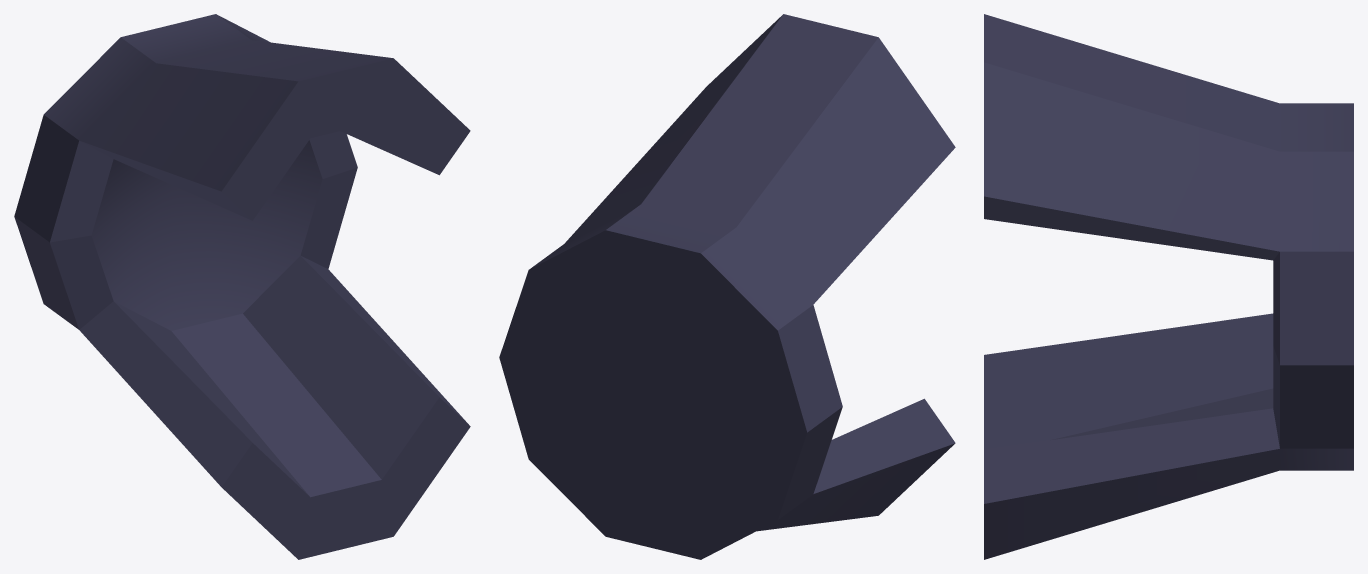
File: gBBarrel_01.fbx
The picture shows the model from 3 angles, left to right: view 1: azimuth 30°, elevation 25°; view 2: azimuth 150°, elevation 25°; view 3: azimuth 270°, elevation 25°; orthographic projection. The views are drawn at different scales.
Visible parts, largest first — view 1: gBBarrel_01; view 2: gBBarrel_01; view 3: gBBarrel_01.
Part boxes in pixels (<box>): gBBarrel_01: <box>14,14,470,559</box>; gBBarrel_01: <box>499,14,955,559</box>; gBBarrel_01: <box>984,14,1353,559</box>.
Bounding box in the file's own units: 200 × 297 × 200.
